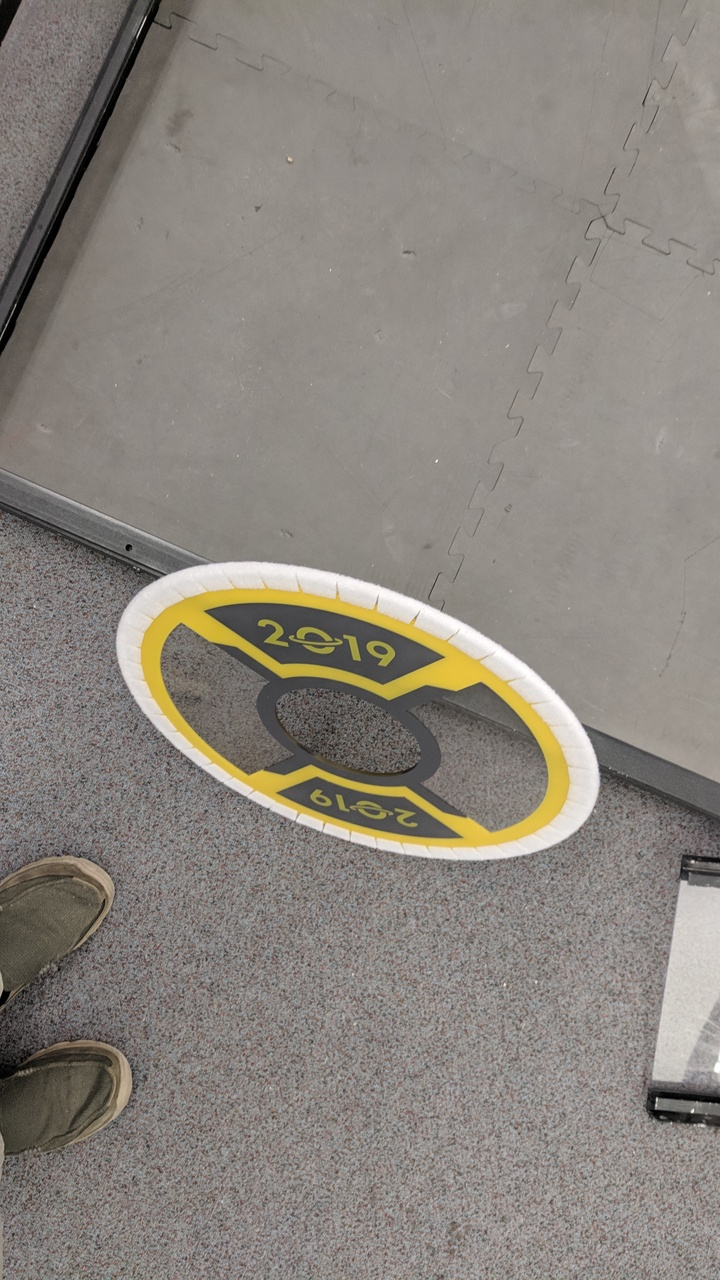hatch_panel: (107, 557, 611, 872)
